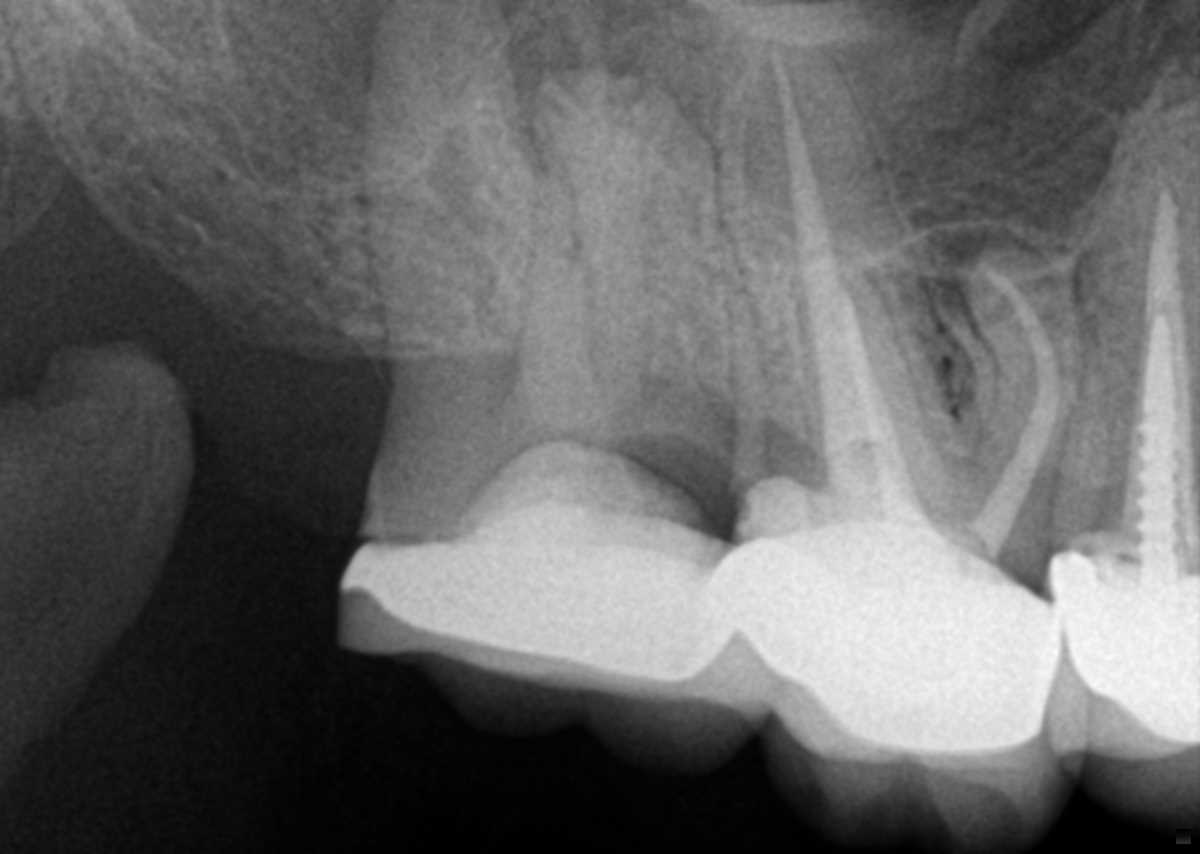Apical Lesion: (500, 0, 699, 152), (927, 208, 1062, 323)
Distal Canal: (362, 0, 599, 410)
Distal Root: (797, 251, 950, 489)
Main Root: (1064, 135, 1200, 545)
Mesial Root: (499, 65, 741, 450), (941, 244, 1089, 572)
Palatal Root: (717, 20, 978, 551)
Root Canal Filling: (769, 49, 897, 457), (967, 264, 1062, 555), (837, 295, 928, 524), (1142, 191, 1182, 337)
